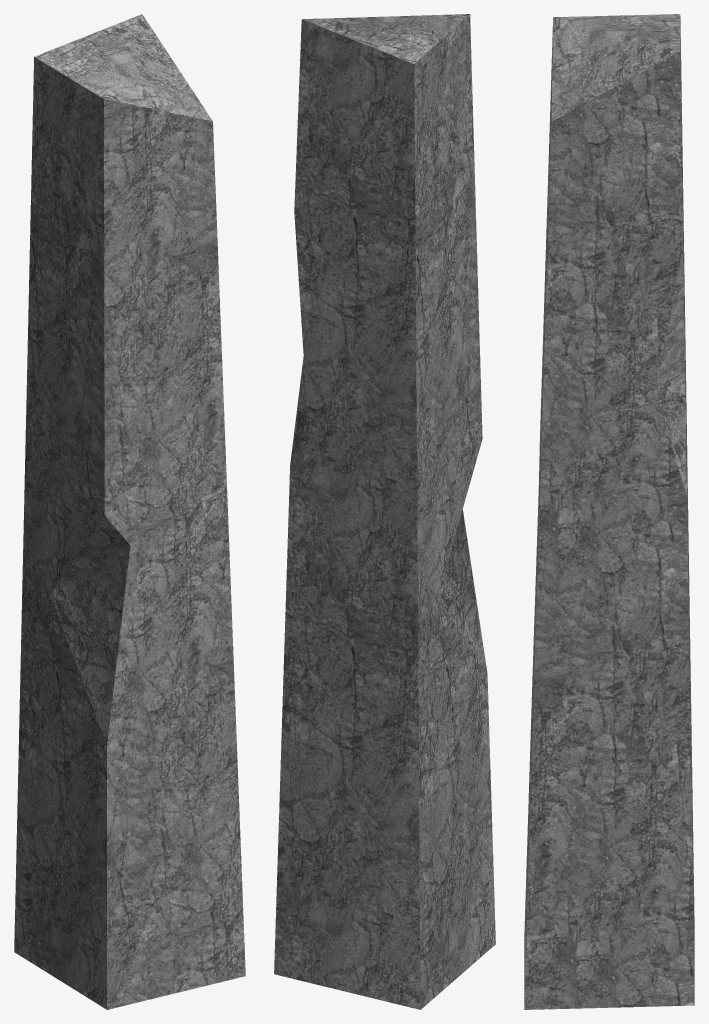
File: materials_3_stone_5.fbx
The picture shows the model from 3 angles, left to right: view 1: azimuth 30°, elevation 25°; view 2: azimuth 150°, elevation 25°; view 3: azimuth 270°, elevation 25°; orthographic projection. The views are drawn at different scales.
Visible parts, largest first — view 1: materials_3_stone_5; view 2: materials_3_stone_5; view 3: materials_3_stone_5.
Boxes of the visible parts, left/top/right/bottom form: materials_3_stone_5: left=14, top=14, right=245, bottom=1009; materials_3_stone_5: left=274, top=14, right=495, bottom=1009; materials_3_stone_5: left=524, top=14, right=694, bottom=1009.
Bounding box in the file's own units: 69.51 × 407 × 66.63.
